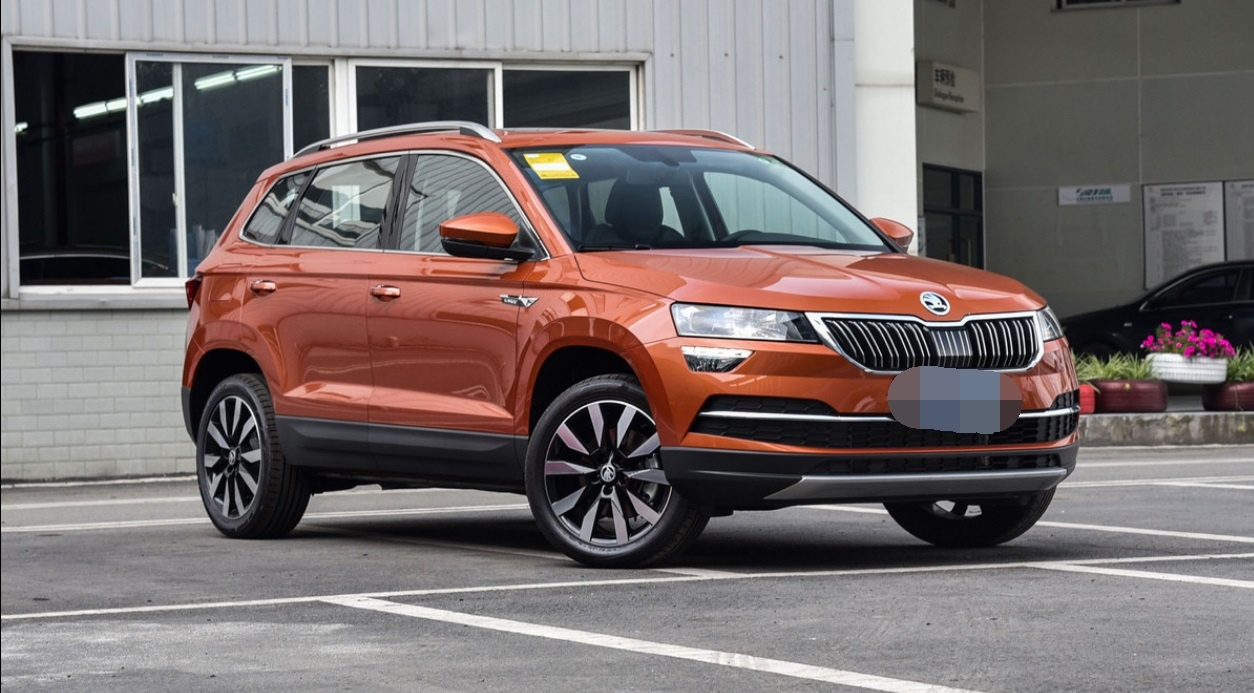SUV: (176, 99, 1092, 567)
